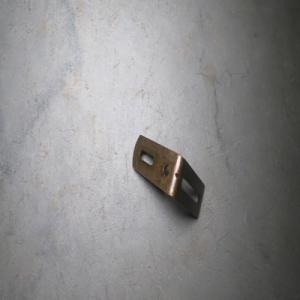MetalPart: (131, 132, 205, 220)
